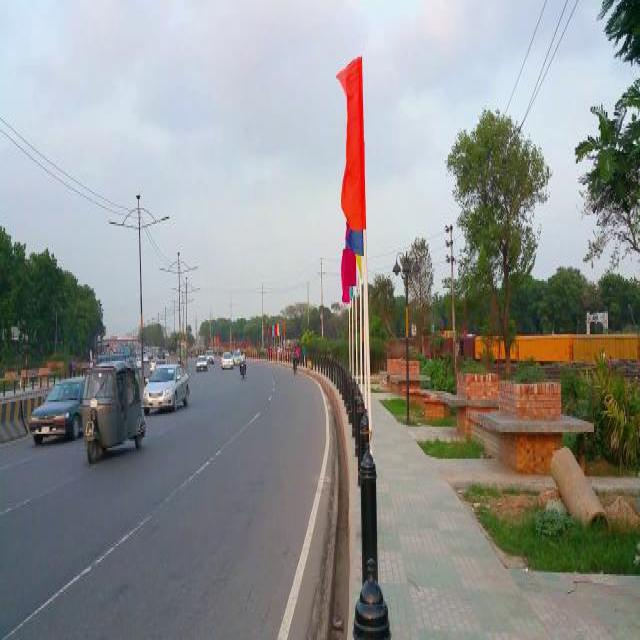bus: (175, 340, 186, 352), (122, 340, 130, 356)
car: (24, 371, 79, 441), (140, 363, 189, 407), (220, 352, 234, 368), (194, 354, 205, 370), (233, 346, 239, 364), (206, 348, 214, 361), (154, 356, 167, 362), (148, 356, 154, 368), (133, 356, 140, 366), (141, 350, 148, 359)
motorcycle: (82, 359, 142, 462), (239, 359, 245, 375)
